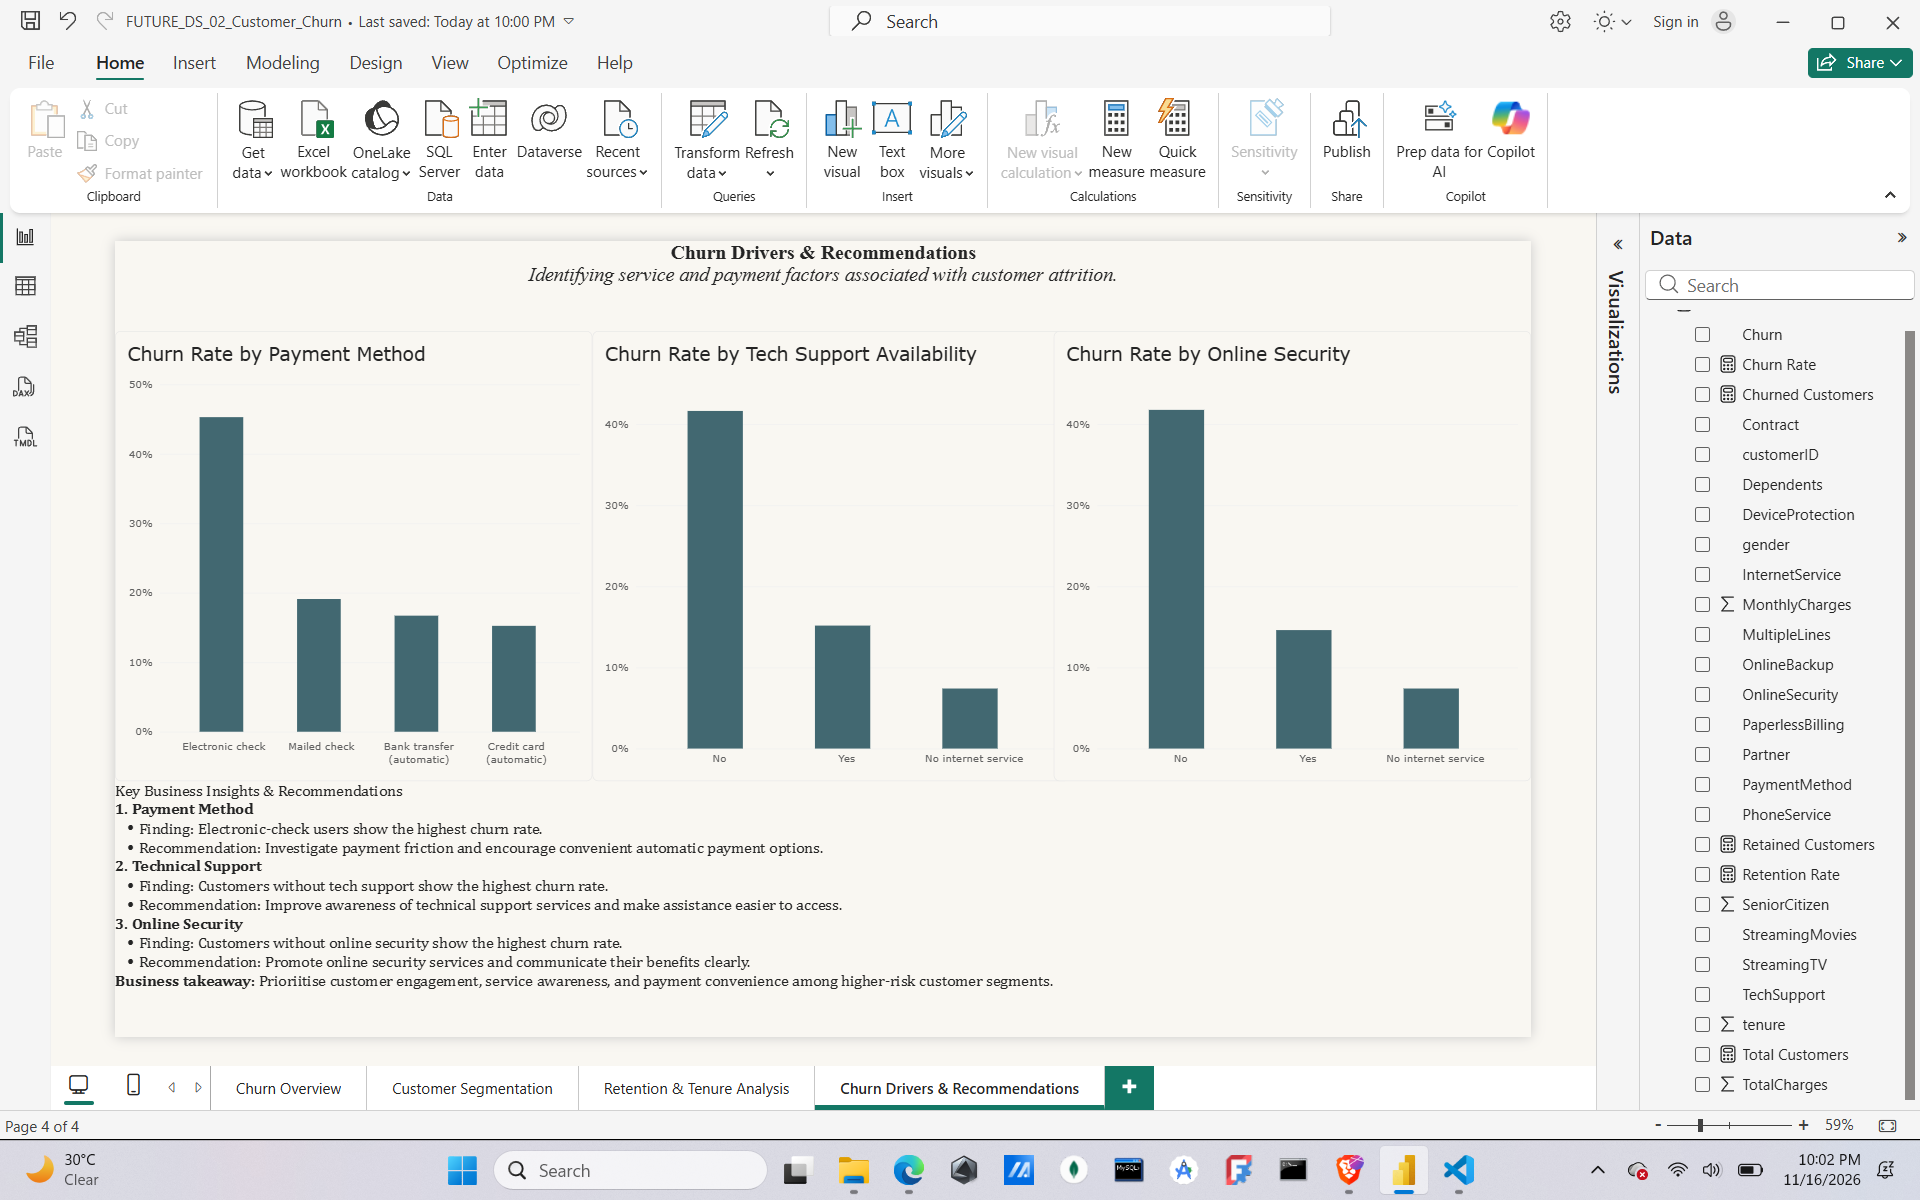

Layout of this report page (visuals, bound fields, positions):
{"tool":"powerbi","page":{"name":"Churn Drivers & Recommendations","canvas":[1920,1080],"ordinal":3},"visuals":[{"type":"clusteredColumnChart","title":"Churn Rate by Payment Method","fields":{"Category":["ChurnData.PaymentMethod"],"Y":["ChurnData.Churn Rate"]},"box":[0,122,647.5,610.2],"z":0,"group":"g1"},{"type":"clusteredColumnChart","title":"Churn Rate by Tech Support Availability","fields":{"Category":["ChurnData.TechSupport"],"Y":["ChurnData.Churn Rate"]},"box":[647.5,122,647,610],"z":1,"group":"g1"},{"type":"clusteredColumnChart","title":"Churn Rate by Online Security","fields":{"Category":["ChurnData.OnlineSecurity"],"Y":["ChurnData.Churn Rate"]},"box":[1272.9,122,647,610],"z":2,"group":"g1"},{"type":"textbox","box":[0,0,1920.3,159.3],"z":3},{"type":"group","id":"g1","title":"Group 1","box":[0,122,1920.3,610.2],"z":4},{"type":"textbox","box":[0,732.2,1272.9,347.5],"z":5}]}

Visuals, with their boxes on the page's 1920x1080 design canvas (x1, y1, x2, y2). These are canvas units, not pixel positions in the 1920x1200 screenshot, which may show the page scaled, cropped or inside an application window:
"Churn Rate by Payment Method" clusteredColumnChart: box(0, 122, 648, 732)
"Churn Rate by Tech Support Availability" clusteredColumnChart: box(648, 122, 1294, 732)
"Churn Rate by Online Security" clusteredColumnChart: box(1273, 122, 1920, 732)
textbox: box(0, 0, 1920, 159)
"Group 1" group: box(0, 122, 1920, 732)
textbox: box(0, 732, 1273, 1080)
